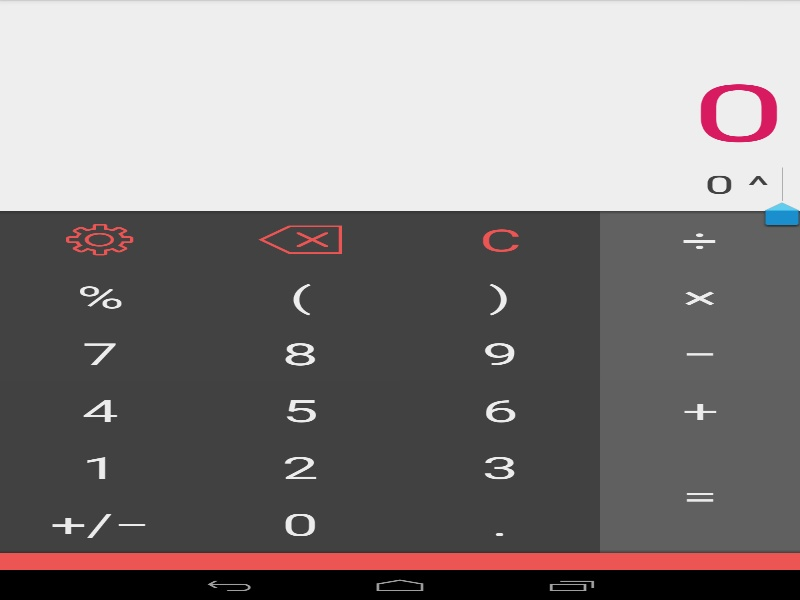Input: (704, 163, 786, 205)
